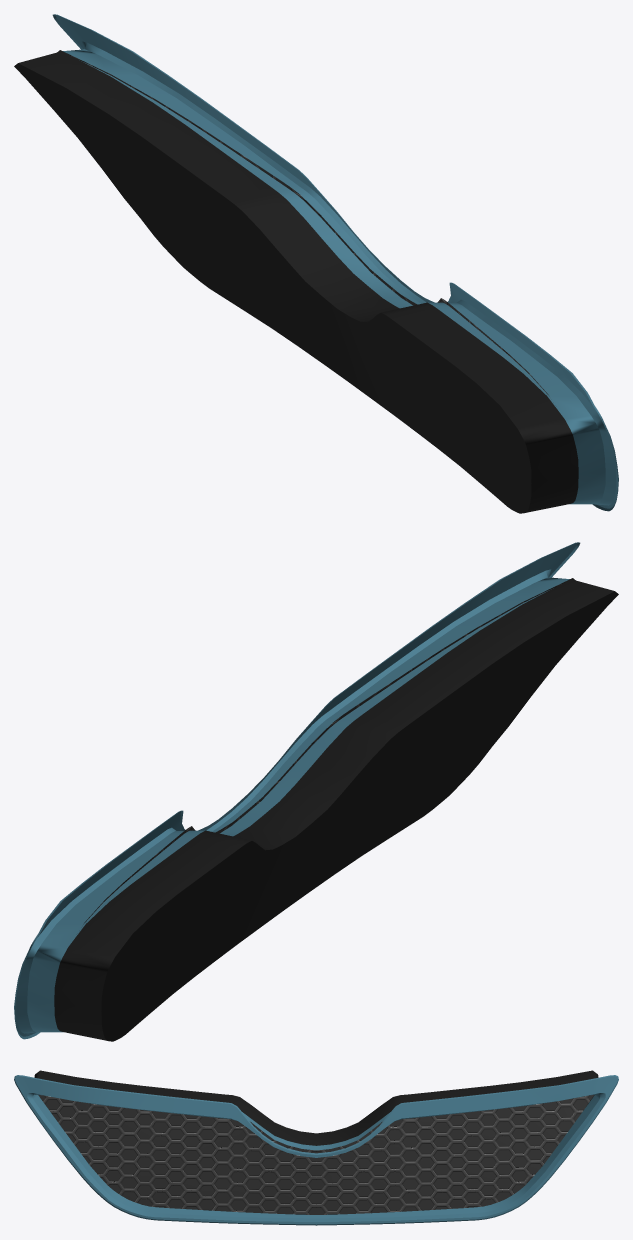
The picture shows the model from 3 angles, top to bottom: view 1: azimuth 30°, elevation 25°; view 2: azimuth 150°, elevation 25°; view 3: azimuth 270°, elevation 25°; orthographic projection. The views are drawn at different scales.
Visible parts, largest first — view 1: Y175_18_041B_C_Y175_18_041B_C_3_D, Y175_18_041B_C_1_DaS_Y175_18_041B_C, Y175_18_041B_C_1_DaS_Y175_18_041B_C_E, Y175_18_041B_C_Y175_18_041B_C_2_D; view 2: Y175_18_041B_C_Y175_18_041B_C_3_D, Y175_18_041B_C_1_DaS_Y175_18_041B_C, Y175_18_041B_C_1_DaS_Y175_18_041B_C_E, Y175_18_041B_C_Y175_18_041B_C_2_D; view 3: Y175_18_041B_C_Y175_18_041B_C_2_D, Y175_18_041B_C_1_DaS_Y175_18_041B_C, Y175_18_041B_C_1_DaS_Y175_18_041B_C_E, Y175_18_041B_C_Y175_18_041B_C_3_D.
Part boxes in pixels (left/top/right/bottom): Y175_18_041B_C_Y175_18_041B_C_3_D: left=14, top=51, right=578, bottom=513; Y175_18_041B_C_1_DaS_Y175_18_041B_C: left=55, top=15, right=617, bottom=508; Y175_18_041B_C_1_DaS_Y175_18_041B_C_E: left=52, top=14, right=618, bottom=511; Y175_18_041B_C_Y175_18_041B_C_2_D: left=57, top=50, right=549, bottom=396; Y175_18_041B_C_Y175_18_041B_C_3_D: left=54, top=579, right=618, bottom=1041; Y175_18_041B_C_1_DaS_Y175_18_041B_C: left=15, top=543, right=577, bottom=1036; Y175_18_041B_C_1_DaS_Y175_18_041B_C_E: left=14, top=542, right=580, bottom=1039; Y175_18_041B_C_Y175_18_041B_C_2_D: left=83, top=578, right=575, bottom=924; Y175_18_041B_C_Y175_18_041B_C_2_D: left=39, top=1095, right=593, bottom=1214; Y175_18_041B_C_1_DaS_Y175_18_041B_C: left=15, top=1076, right=617, bottom=1224; Y175_18_041B_C_1_DaS_Y175_18_041B_C_E: left=14, top=1075, right=618, bottom=1225; Y175_18_041B_C_Y175_18_041B_C_3_D: left=34, top=1070, right=598, bottom=1145.
Size of the model in its own units: 18.74 by 20.58 by 96.66.
